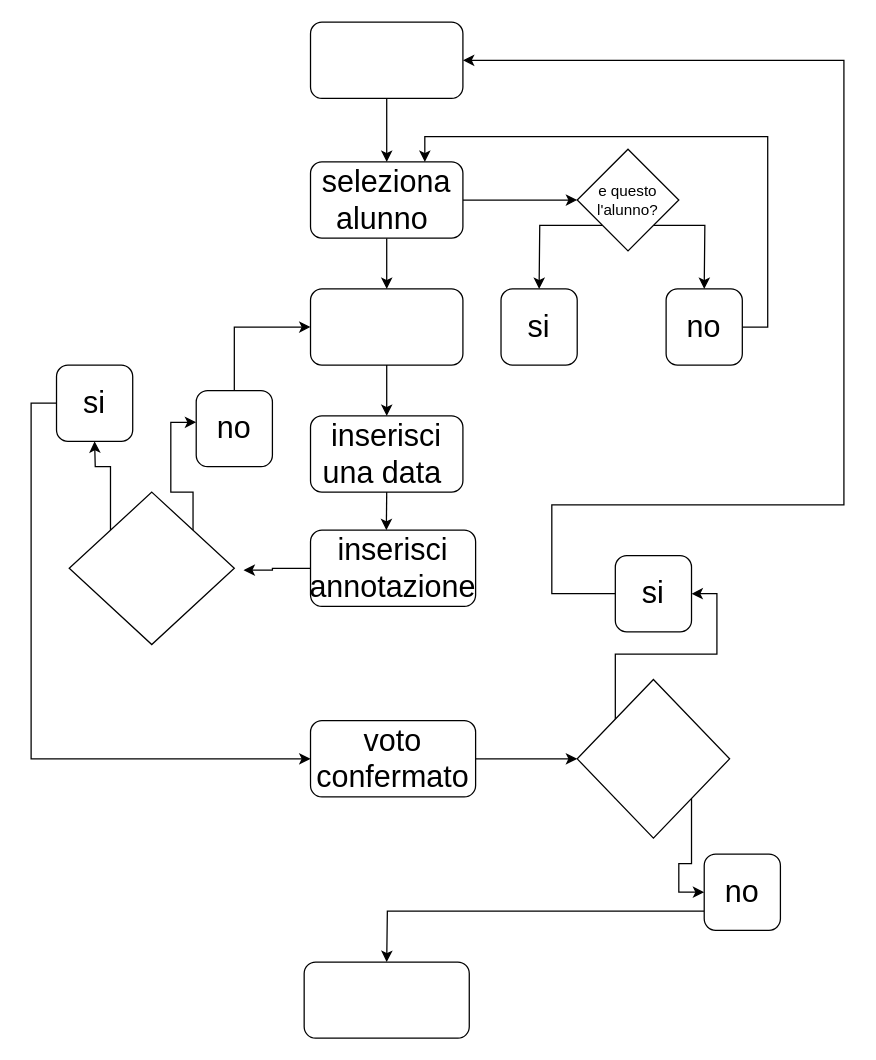
The diagram is 876 pixels wide and 1060 high, and some of its shapes have lost their labels. The shapes that lost their labels are listed below. From the top down, each one's centre as x and y in pixels, then its label:
(x=386, y=59): inserisci voto
(x=386, y=326): inserisci il voto
(x=151, y=568): sei sicuro di voler confermare il voto?
(x=653, y=758): inserire un altro voto?
(x=386, y=999): out
